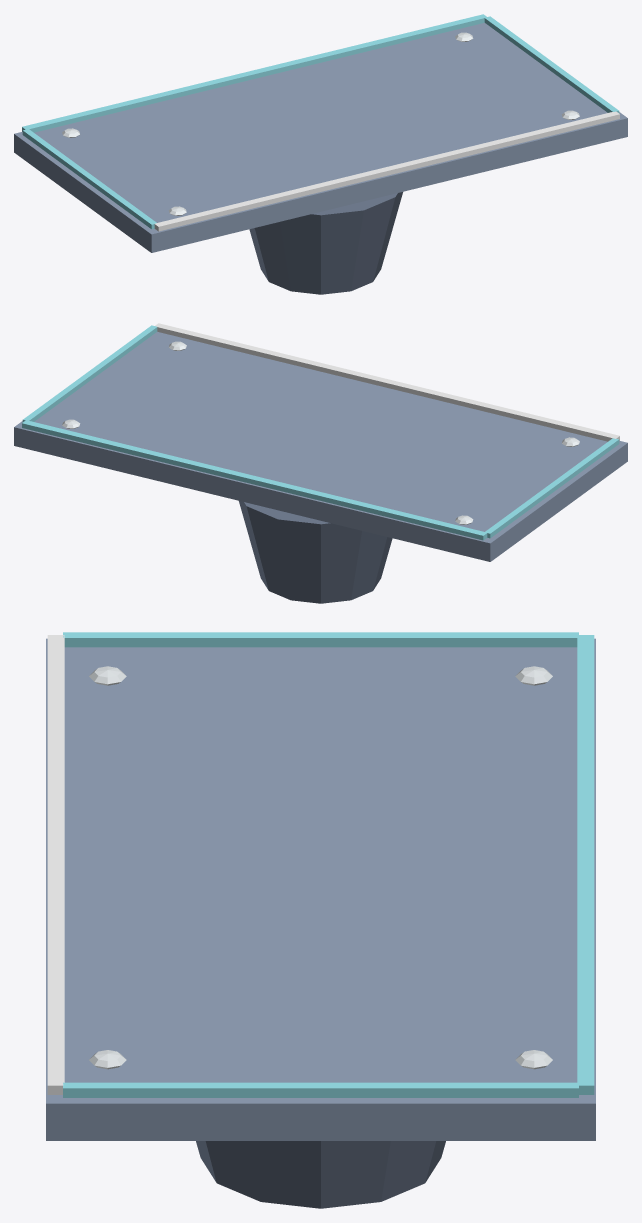
Rendered from mesa_magnetica.glb.
3 views of the same model, one above another, from view 1: azimuth 30°, elevation 25°; view 2: azimuth 150°, elevation 25°; view 3: azimuth 270°, elevation 25° (orthographic). The views are drawn at different scales.
Visible parts, largest first — view 1: mesa_magnetica; view 2: mesa_magnetica; view 3: mesa_magnetica.
Boxes of the visible parts, left/top/right/bottom form: mesa_magnetica: left=14, top=14, right=627, bottom=294; mesa_magnetica: left=14, top=323, right=627, bottom=603; mesa_magnetica: left=46, top=632, right=595, bottom=1208.
Bounding box in the file's own units: 3.2 × 0.955 × 1.6.
